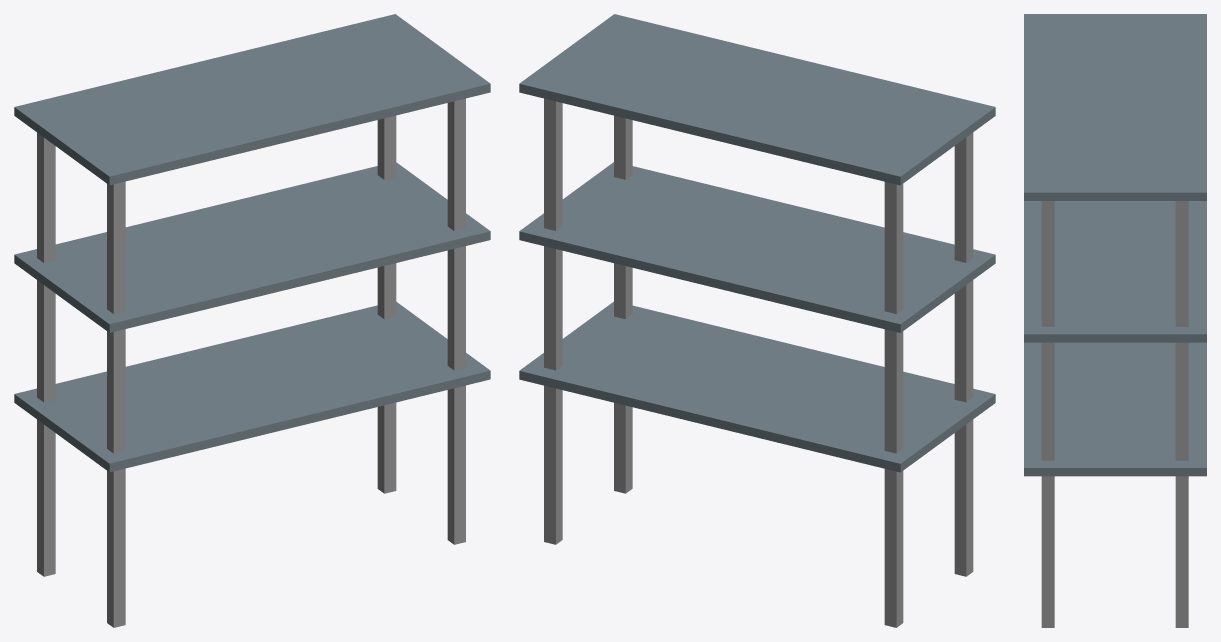
Rendered from Regal.fbx.
3 views of the same model, side by side, from view 1: azimuth 30°, elevation 25°; view 2: azimuth 150°, elevation 25°; view 3: azimuth 270°, elevation 25° (orthographic). The views are drawn at different scales.
Visible parts, largest first — view 1: Regalflaeche, Regal; view 2: Regalflaeche, Regal; view 3: Regalflaeche, Regal.
Boxes of the visible parts, x1,y1,x2,y2 form: Regalflaeche: (14,14,490,472); Regal: (37,98,465,627); Regalflaeche: (519,14,995,472); Regal: (544,98,973,627); Regalflaeche: (1024,14,1206,476); Regal: (1041,201,1188,627).
Bounding box in the file's own units: 462 × 534 × 200.
